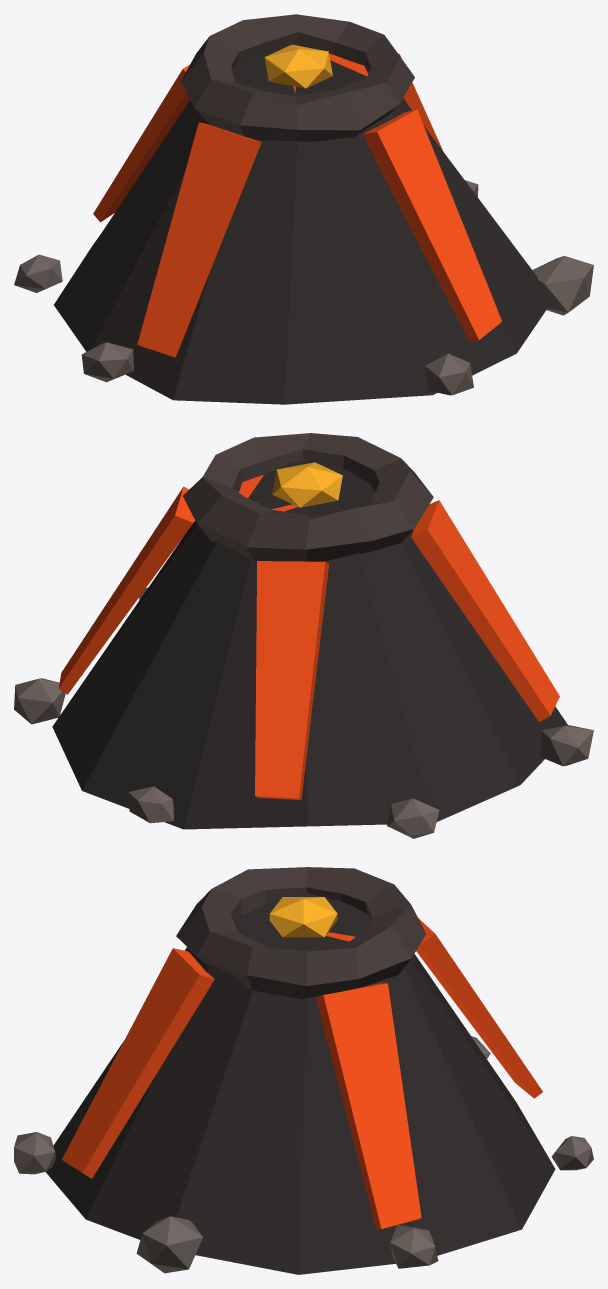
Rendered from MiniVolcano.fbx.
The picture shows the model from 3 angles, top to bottom: view 1: azimuth 30°, elevation 25°; view 2: azimuth 150°, elevation 25°; view 3: azimuth 270°, elevation 25°; orthographic projection. The views are drawn at different scales.
Visible parts, largest first — view 1: MiniVolcano, MiniVolcano_Glow; view 2: MiniVolcano, MiniVolcano_Glow; view 3: MiniVolcano, MiniVolcano_Glow.
Part boxes in pixels (x1,y1,x2,y2): MiniVolcano: [14, 14, 593, 404]; MiniVolcano_Glow: [93, 44, 501, 357]; MiniVolcano: [14, 433, 593, 838]; MiniVolcano_Glow: [58, 462, 559, 799]; MiniVolcano: [14, 867, 593, 1274]; MiniVolcano_Glow: [61, 897, 542, 1229].
Size of the model in its own units: 711 by 380 by 727.
Materials: 1 (1 with a texture image).
